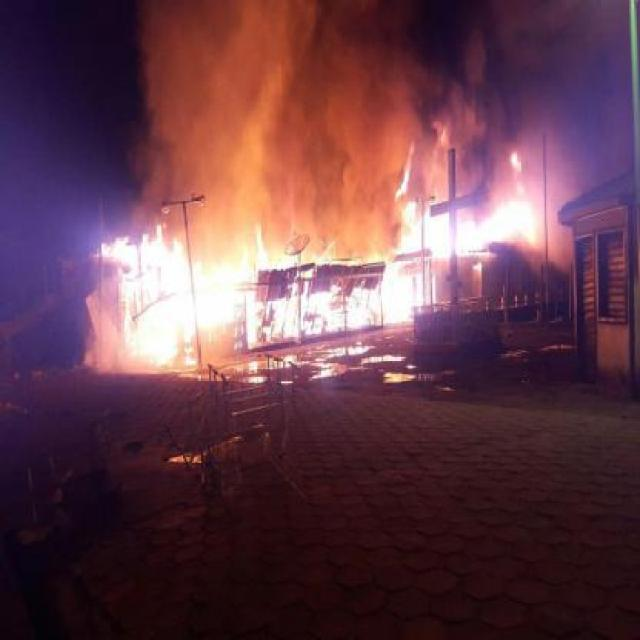Fire: (105, 239, 262, 359), (393, 195, 539, 255), (306, 288, 385, 326), (388, 274, 418, 323), (266, 298, 303, 337), (251, 249, 311, 269)
Smoke: (211, 13, 520, 190)
